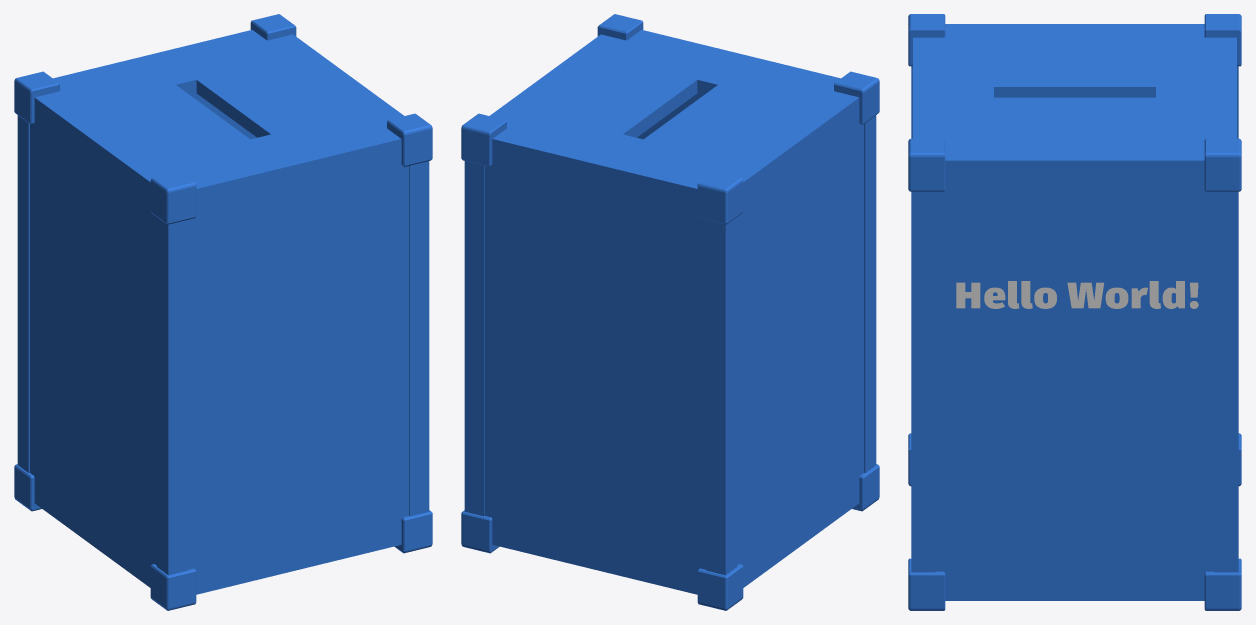
File: asset.glb
3 renders of one model, left to right at view 1: azimuth 30°, elevation 25°; view 2: azimuth 150°, elevation 25°; view 3: azimuth 270°, elevation 25°, orthographic. The views are drawn at different scales.
Visible parts, largest first — view 1: hako, hone_2, hone_1; view 2: hako, hone_2, hone_1; view 3: hako, hone_2, hone_1, Text.
Part boxes in pixels (x1=…): hako: x1=30, y1=30, x2=409, y2=594; hone_2: x1=17, y1=115, x2=429, y2=575; hone_1: x1=14, y1=14, x2=432, y2=610; hako: x1=484, y1=30, x2=863, y2=594; hone_2: x1=464, y1=115, x2=876, y2=575; hone_1: x1=461, y1=14, x2=879, y2=610; hako: x1=913, y1=24, x2=1236, y2=600; hone_2: x1=911, y1=66, x2=1238, y2=572; hone_1: x1=908, y1=14, x2=1241, y2=610; Text: x1=956, y1=281, x2=1198, y2=308.
Size of the model in its own units: 2.06 by 3.12 by 2.06.
